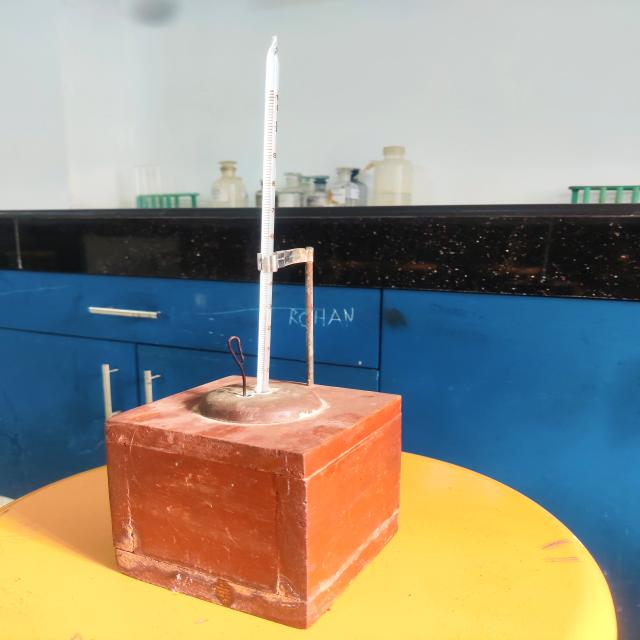Calorimeter: (69, 13, 472, 640)
